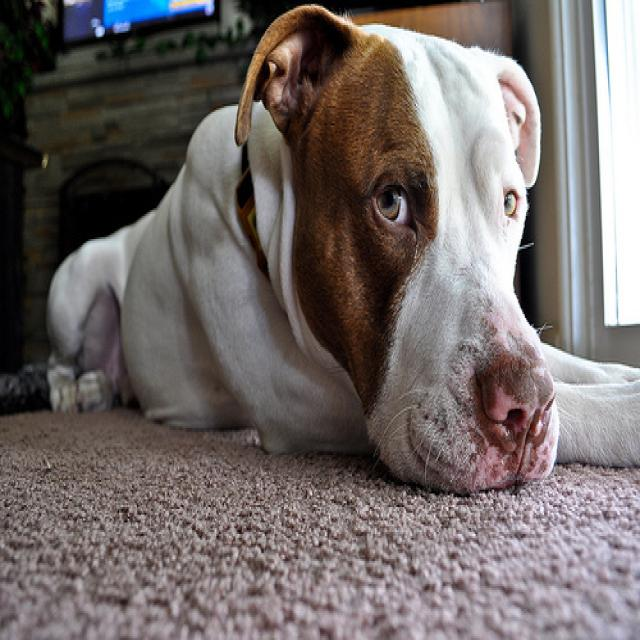dog-american_pit_bull_terrier: (1, 2, 637, 499)
